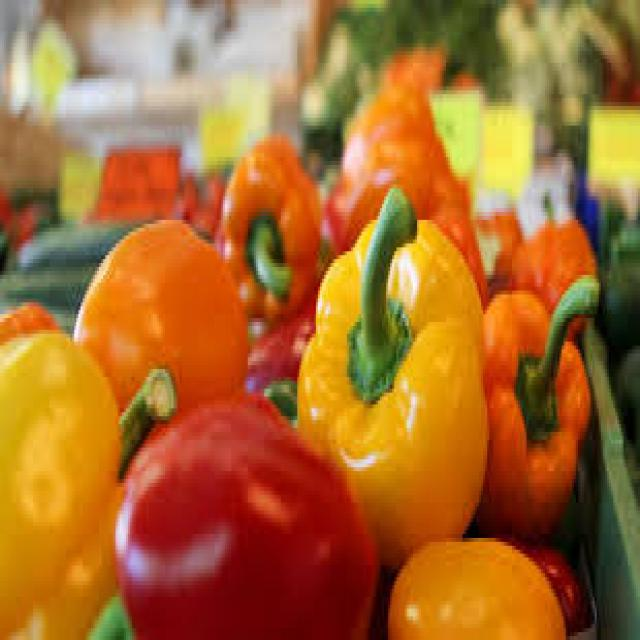organic waste: (291, 176, 487, 562), (115, 389, 380, 636), (0, 302, 173, 635), (72, 208, 250, 405), (479, 267, 599, 538), (324, 141, 485, 275), (211, 130, 320, 306), (384, 534, 564, 636), (342, 0, 493, 86), (508, 212, 597, 330), (486, 526, 588, 620), (338, 78, 438, 169), (295, 12, 349, 141), (243, 306, 316, 393), (0, 255, 116, 306), (12, 224, 166, 255), (376, 36, 481, 78), (597, 248, 638, 350), (607, 334, 638, 439), (467, 208, 522, 267), (80, 585, 142, 636), (597, 196, 638, 244), (541, 200, 553, 228)
